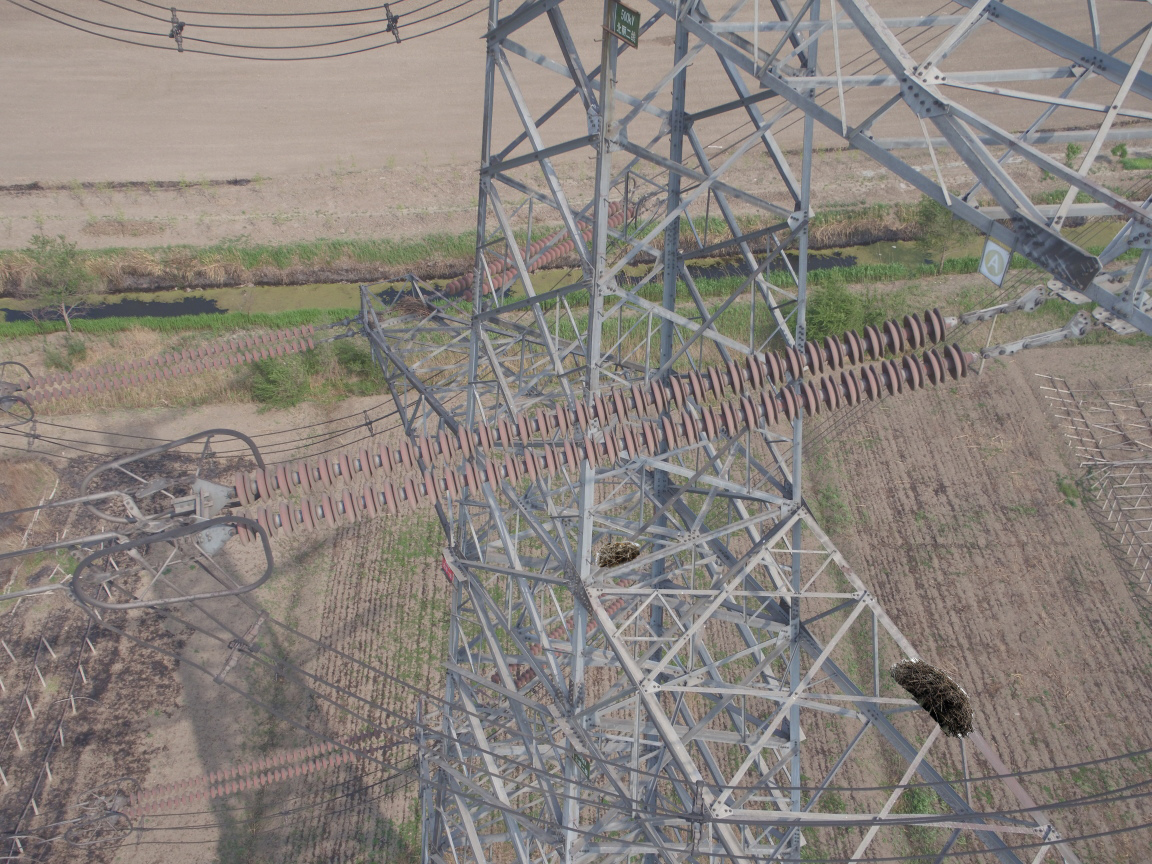nest: (889, 650, 979, 742), (593, 537, 646, 566)
